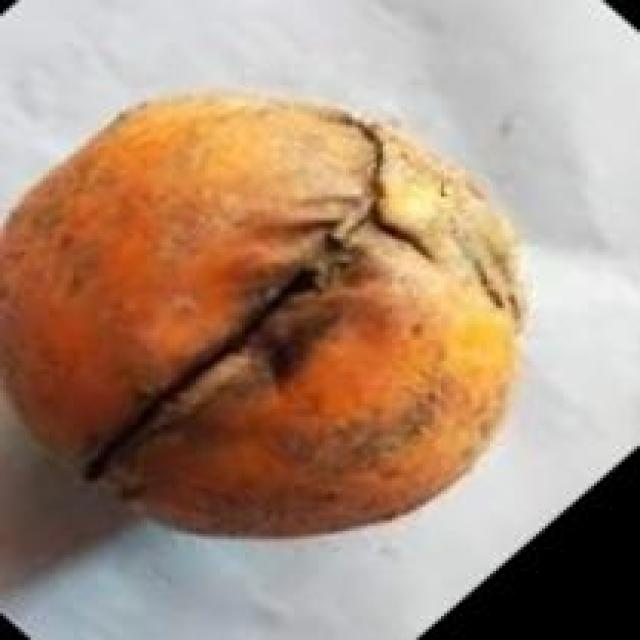damaged: (0, 96, 524, 531)
